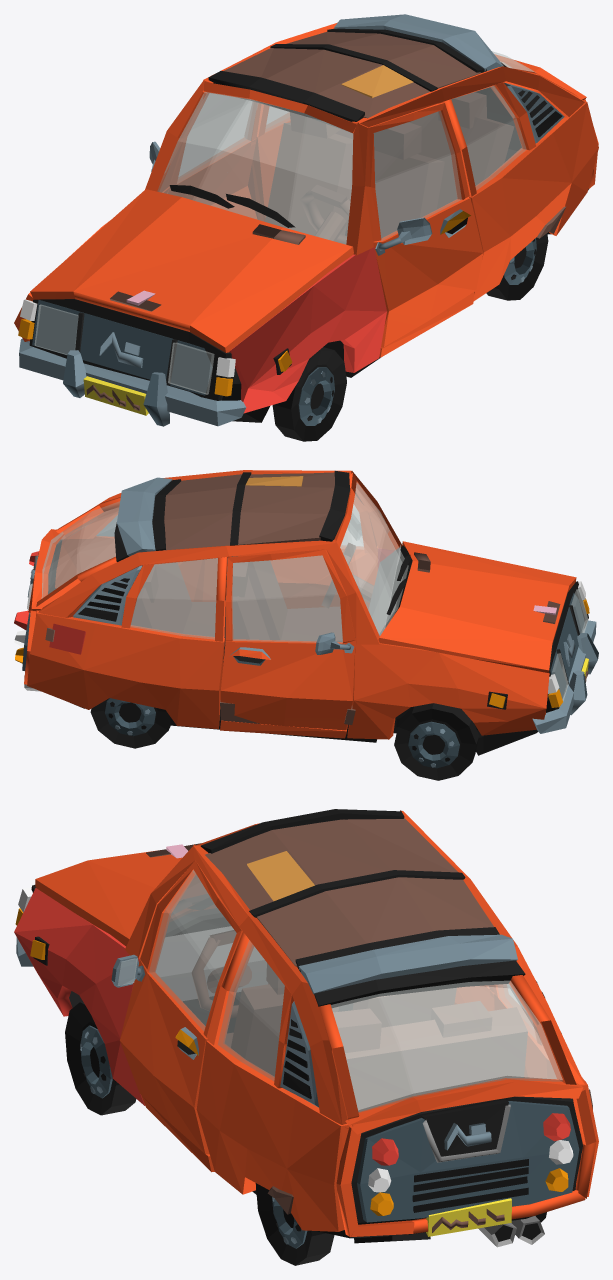
The model's file is car.dae.
3 renders of one model, top to bottom at view 1: azimuth 30°, elevation 25°; view 2: azimuth 150°, elevation 25°; view 3: azimuth 270°, elevation 25°, orthographic. The views are drawn at different scales.
Visible parts, largest first — view 1: car; view 2: car; view 3: car.
Part boxes in pixels (x1,y1,x2,y2): car: (14, 14, 598, 441); car: (14, 470, 598, 780); car: (14, 809, 598, 1265).
Bounding box in the file's own units: 1 × 0.4462 × 0.7113.
